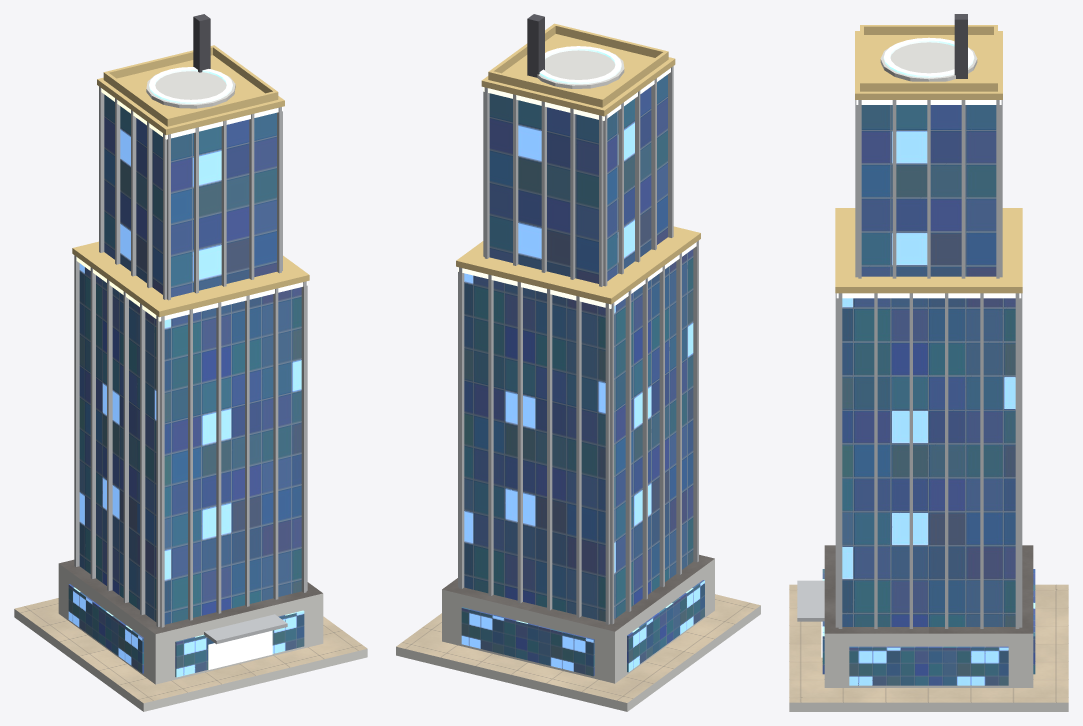
Rendered from dev_4_highrise_L4.glb.
3 views of the same model, side by side, from view 1: azimuth 30°, elevation 25°; view 2: azimuth 150°, elevation 25°; view 3: azimuth 270°, elevation 25° (orthographic). The views are drawn at different scales.
Parts seen in each view (by area): view 1: dev_4_highrise_L4__facade_glass, dev_4_highrise_L4__steel, dev_4_highrise_L4__white, dev_4_highrise_L4__gold, dev_4_highrise_L4__paving_warm, dev_4_highrise_L4__roof, dev_4_highrise_L4__trim_glow, dev_4_highrise_L4__window_glow, dev_4_highrise_L4__lamp_metal, dev_4_highrise_L4__blue_glow; view 2: dev_4_highrise_L4__facade_glass, dev_4_highrise_L4__steel, dev_4_highrise_L4__white, dev_4_highrise_L4__gold, dev_4_highrise_L4__paving_warm, dev_4_highrise_L4__roof, dev_4_highrise_L4__trim_glow, dev_4_highrise_L4__lamp_metal, dev_4_highrise_L4__blue_glow; view 3: dev_4_highrise_L4__facade_glass, dev_4_highrise_L4__steel, dev_4_highrise_L4__gold, dev_4_highrise_L4__white, dev_4_highrise_L4__paving_warm, dev_4_highrise_L4__roof, dev_4_highrise_L4__trim_glow, dev_4_highrise_L4__blue_glow, dev_4_highrise_L4__lamp_metal.
Part boxes in pixels (x1=…): dev_4_highrise_L4__facade_glass: x1=68, y1=94, x2=304, y2=677; dev_4_highrise_L4__steel: x1=74, y1=86, x2=307, y2=644; dev_4_highrise_L4__white: x1=14, y1=71, x2=367, y2=711; dev_4_highrise_L4__gold: x1=72, y1=45, x2=309, y2=317; dev_4_highrise_L4__paving_warm: x1=14, y1=598, x2=367, y2=703; dev_4_highrise_L4__roof: x1=59, y1=559, x2=322, y2=634; dev_4_highrise_L4__trim_glow: x1=76, y1=86, x2=307, y2=321; dev_4_highrise_L4__window_glow: x1=208, y1=630, x2=272, y2=669; dev_4_highrise_L4__lamp_metal: x1=193, y1=14, x2=210, y2=72; dev_4_highrise_L4__blue_glow: x1=149, y1=67, x2=232, y2=103; dev_4_highrise_L4__facade_glass: x1=461, y1=74, x2=704, y2=676; dev_4_highrise_L4__steel: x1=458, y1=66, x2=698, y2=624; dev_4_highrise_L4__white: x1=396, y1=50, x2=760, y2=711; dev_4_highrise_L4__gold: x1=456, y1=23, x2=700, y2=304; dev_4_highrise_L4__paving_warm: x1=396, y1=594, x2=760, y2=702; dev_4_highrise_L4__roof: x1=442, y1=554, x2=714, y2=631; dev_4_highrise_L4__trim_glow: x1=458, y1=68, x2=696, y2=308; dev_4_highrise_L4__lamp_metal: x1=527, y1=14, x2=544, y2=77; dev_4_highrise_L4__blue_glow: x1=539, y1=46, x2=621, y2=84; dev_4_highrise_L4__facade_glass: x1=822, y1=105, x2=1035, y2=685; dev_4_highrise_L4__steel: x1=797, y1=100, x2=1022, y2=628; dev_4_highrise_L4__gold: x1=835, y1=25, x2=1022, y2=293; dev_4_highrise_L4__white: x1=789, y1=42, x2=1068, y2=711; dev_4_highrise_L4__paving_warm: x1=789, y1=584, x2=1068, y2=702; dev_4_highrise_L4__roof: x1=824, y1=545, x2=1033, y2=633; dev_4_highrise_L4__trim_glow: x1=836, y1=100, x2=1021, y2=298; dev_4_highrise_L4__blue_glow: x1=883, y1=37, x2=974, y2=77; dev_4_highrise_L4__lamp_metal: x1=954, y1=14, x2=967, y2=78.
Bounding box in the file's own units: 0.82 × 2.11 × 0.82.
10 materials, 3 textured.
